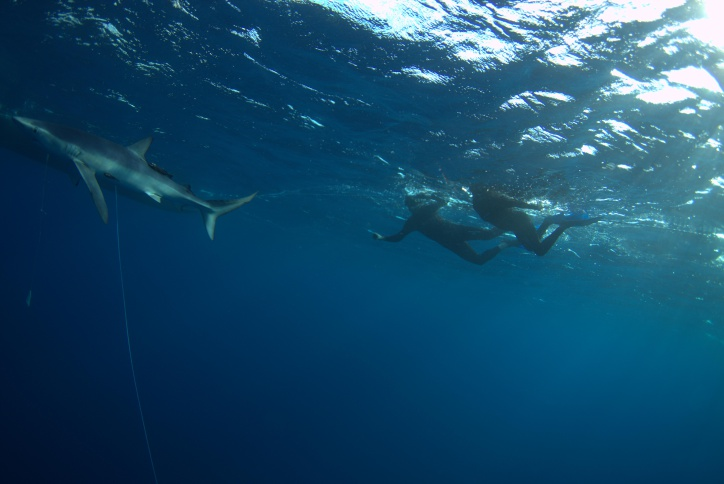Azul: (1, 93, 265, 270)
